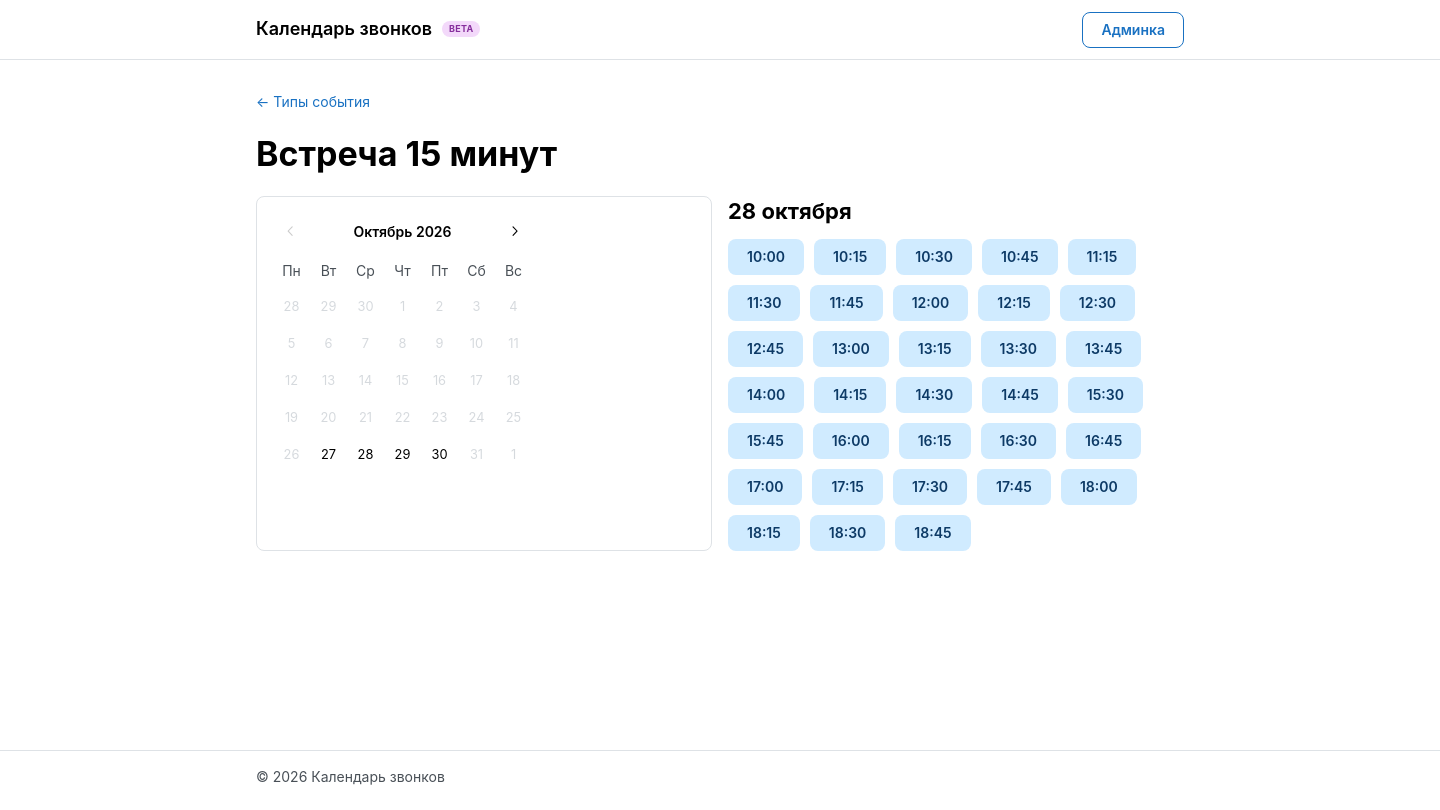
it: полностью занятый день показывает «Нет слотов на этот день»
Click the button named "Следующий месяц" at (514, 232), box x1=496 y1=214 x2=532 y2=250
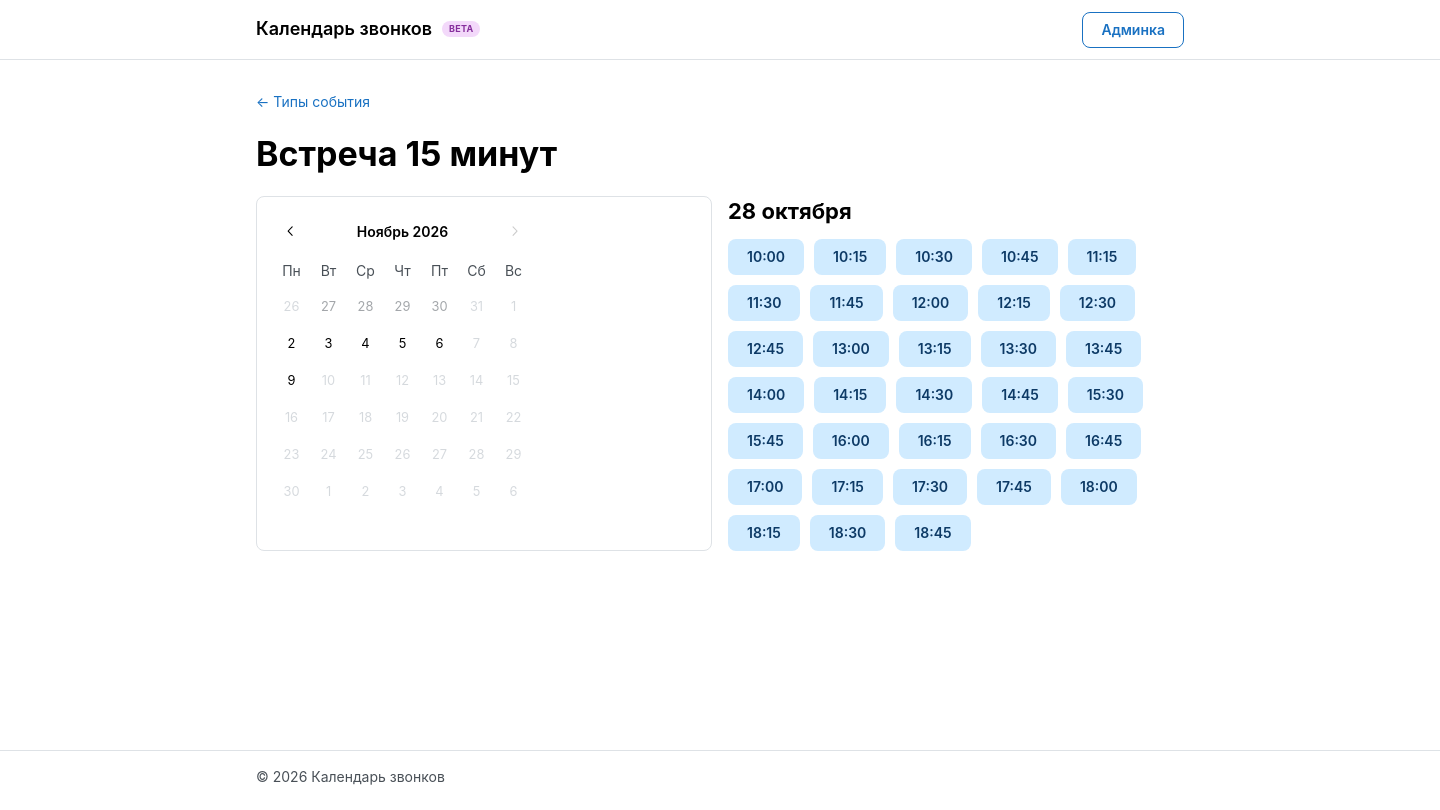
Click the button "9" at (292, 381), box x1=274 y1=363 x2=310 y2=399
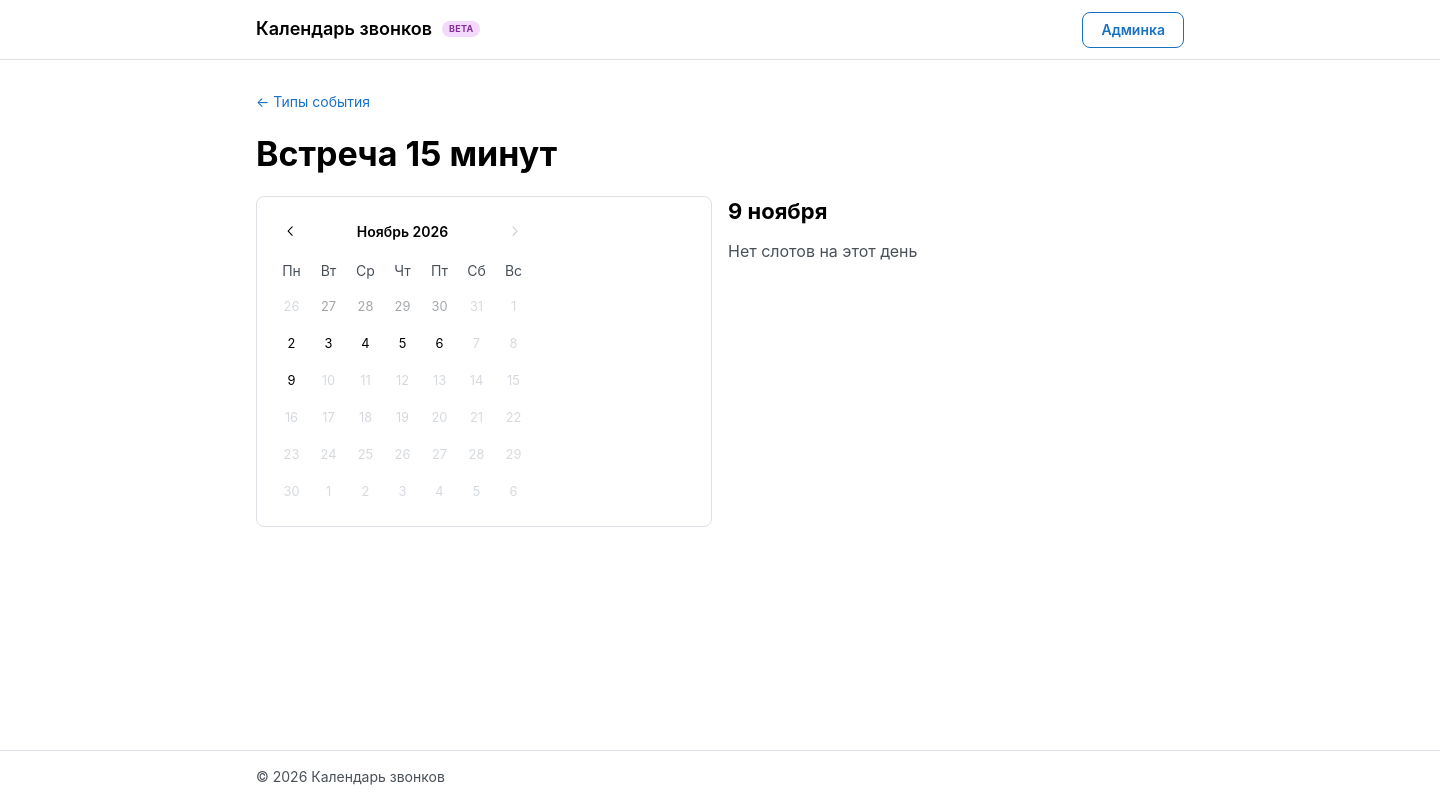
expect the text "Нет слотов на этот день" is shown: met, box x1=728 y1=241 x2=918 y2=261
expect the button "10:00" is gone: met
